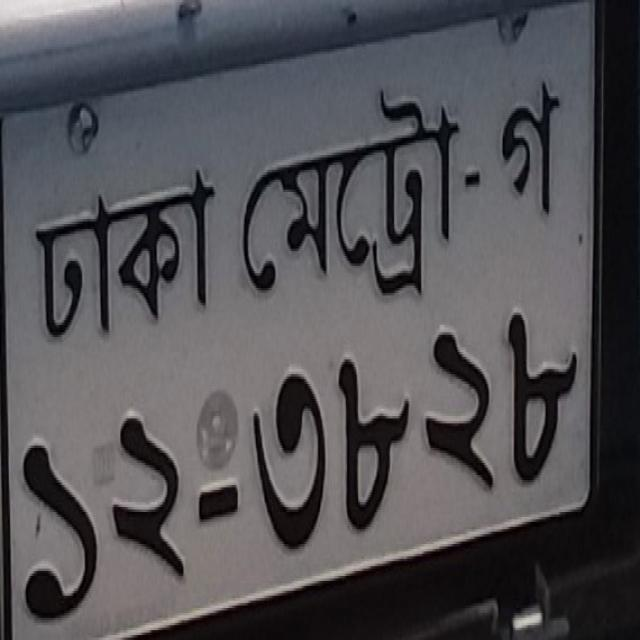numberplate: (1, 0, 624, 637)
